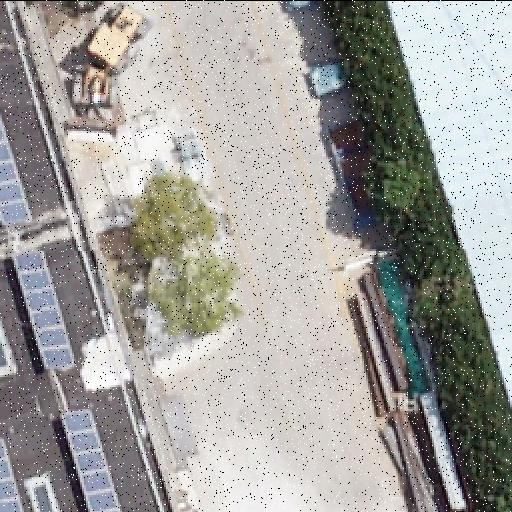solar-panel: (11, 248, 77, 368), (61, 404, 123, 512), (0, 114, 32, 222), (0, 433, 26, 511)
